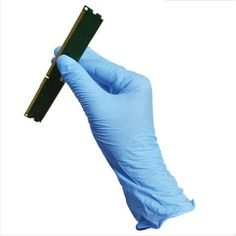gloves: (48, 44, 195, 220)
